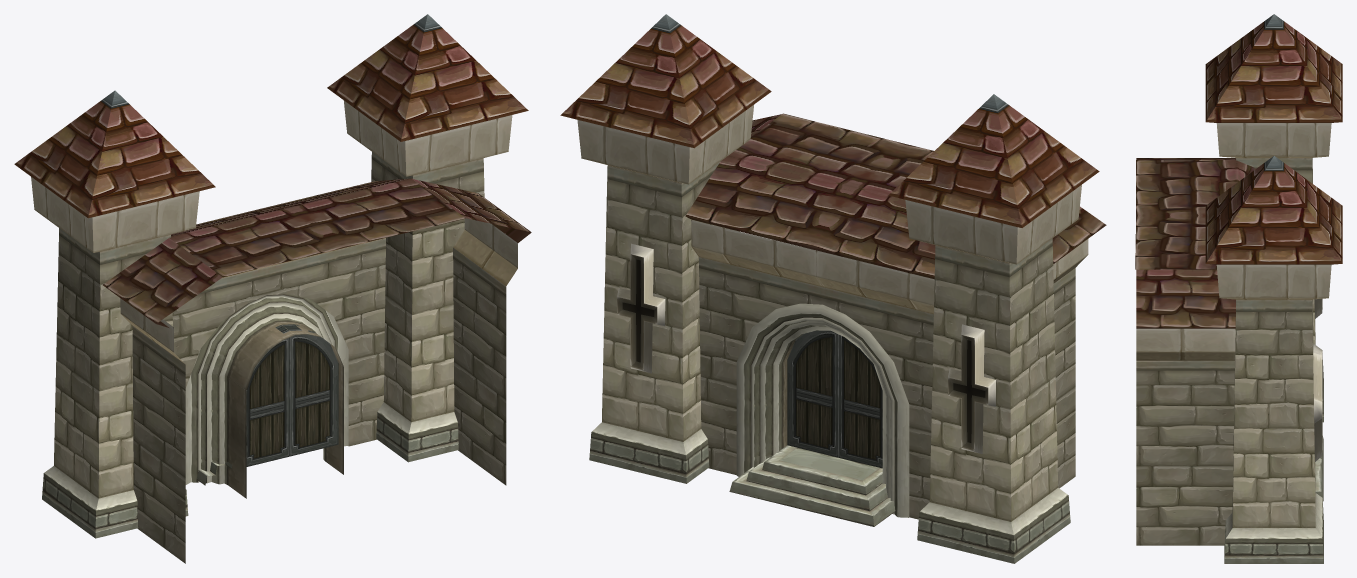
The model's file is Fortress_Gate.FBX.
3 views of the same model, side by side, from view 1: azimuth 30°, elevation 25°; view 2: azimuth 150°, elevation 25°; view 3: azimuth 270°, elevation 25° (orthographic). The views are drawn at different scales.
Parts seen in each view (by area): view 1: Gate_D, Gate_Left, Gate_Right005; view 2: Gate_D, Gate_Left, Gate_Right005; view 3: Gate_D.
Boxes of the visible parts, <box> form: Gate_D: <box>14,14,531,563</box>; Gate_Left: <box>282,324,338,456</box>; Gate_Right005: <box>246,325,289,466</box>; Gate_D: <box>560,14,1106,563</box>; Gate_Left: <box>787,330,838,457</box>; Gate_Right005: <box>838,334,882,468</box>; Gate_D: <box>1135,14,1342,563</box>.
Bounding box in the file's own units: 2046 × 1856 × 899.
